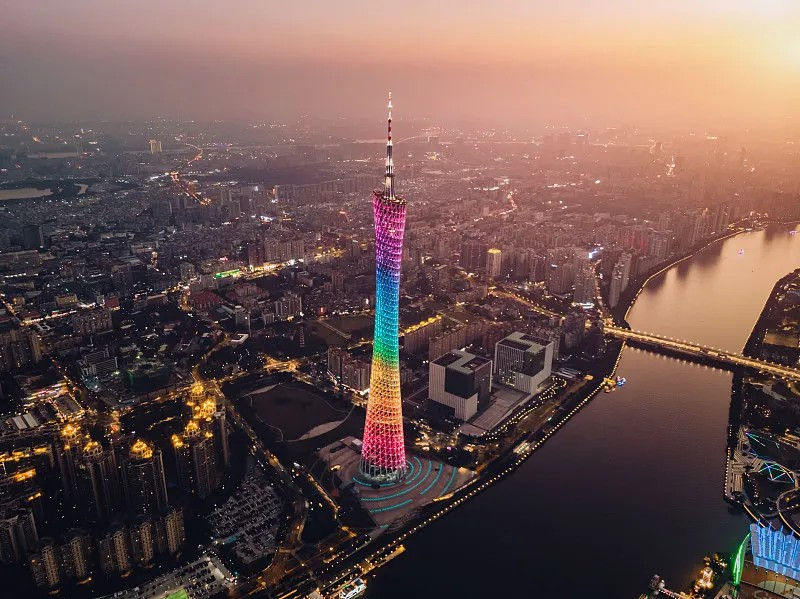Canton: (357, 91, 414, 481)
